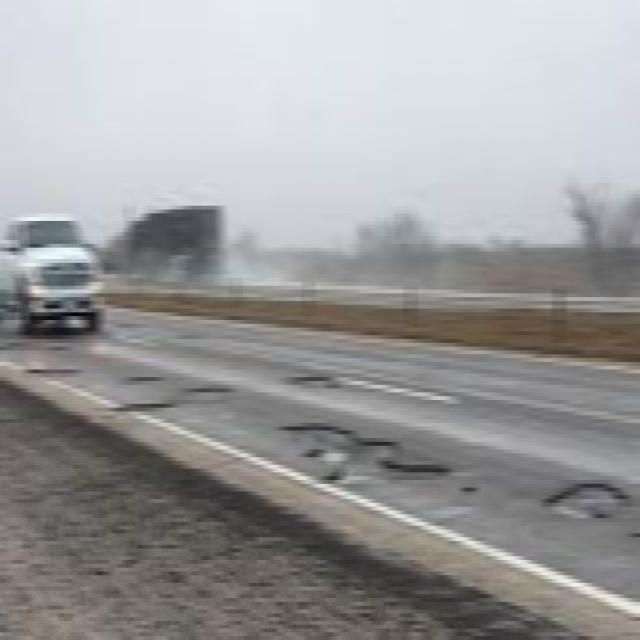Pothole: (274, 418, 471, 493), (530, 474, 640, 530), (112, 396, 174, 415), (293, 371, 339, 394), (184, 385, 237, 398), (27, 366, 84, 376), (125, 373, 168, 383)
